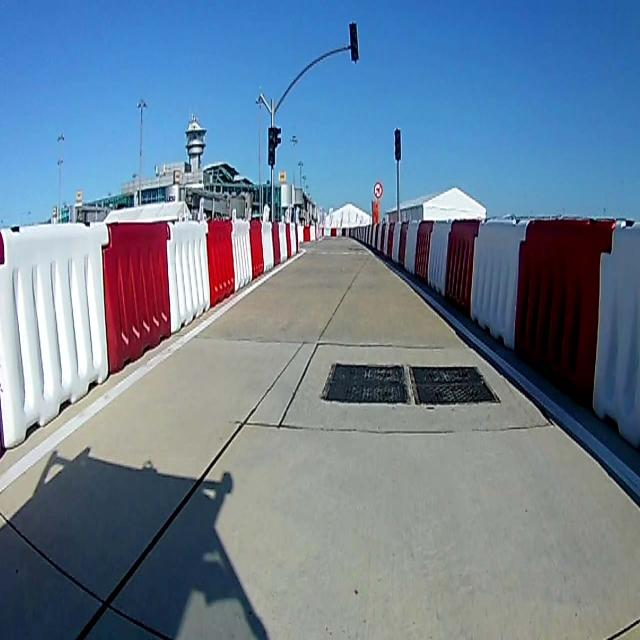soladonulmez: (373, 182, 383, 199)
